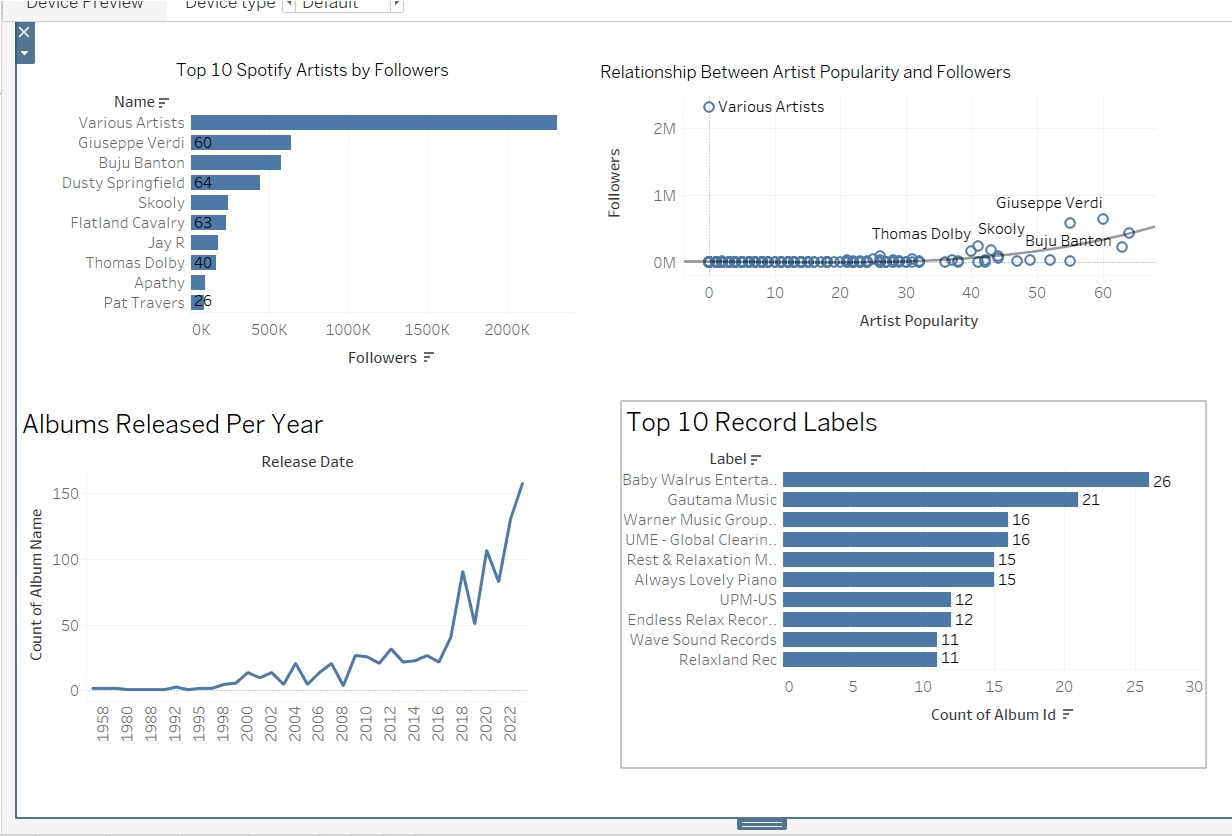

Layout of this report page (visuals, bound fields, positions):
{"tool":"tableau","page":{"name":"Dashboard 1","canvas":[1000,1000],"units":"permille","ordinal":0},"visuals":[{"type":"worksheet","title":"Sheet 1","mark":"Automatic","rows":["name"],"cols":["followers"],"box":[22.1,41.4,351.6,421.6]},{"type":"worksheet","title":"Sheet 2","mark":"Automatic","rows":["followers"],"cols":["artist_popularity"],"box":[387.8,43.9,375.1,352.6]},{"type":"worksheet","title":"Sheet 5","mark":"Automatic","rows":["label"],"cols":["album_id"],"box":[405.2,476.8,390.5,458]},{"type":"worksheet","title":"Sheet 4","mark":"Automatic","rows":["album_name"],"cols":["release_date"],"box":[0.7,479.3,341.6,447.9]}]}

Visuals, with their boxes on the dashboard's canvas, which has no fixed pixel size, in thousandths of its width and height (x1, y1, x2, y2). These are canvas units, not pixel positions in the 1232x836 screenshot, which may show the page scaled, cropped or inside an application window:
"Sheet 1" worksheet: l=22, t=41, r=374, b=463
"Sheet 2" worksheet: l=388, t=44, r=763, b=396
"Sheet 5" worksheet: l=405, t=477, r=796, b=935
"Sheet 4" worksheet: l=1, t=479, r=342, b=927
